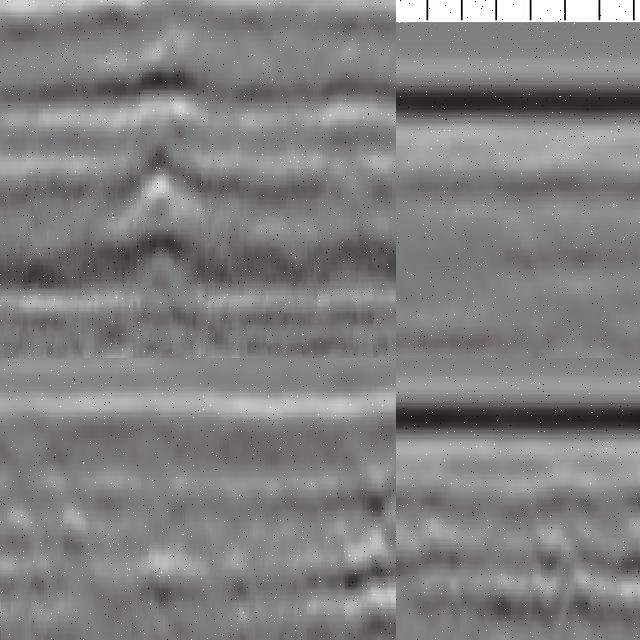crack: (141, 11, 189, 340)
loose: (397, 488, 640, 623), (328, 456, 397, 640)
